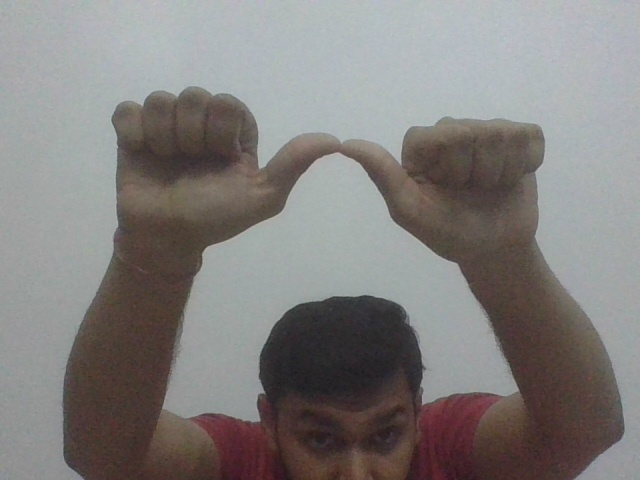A: (96, 82, 552, 249)
